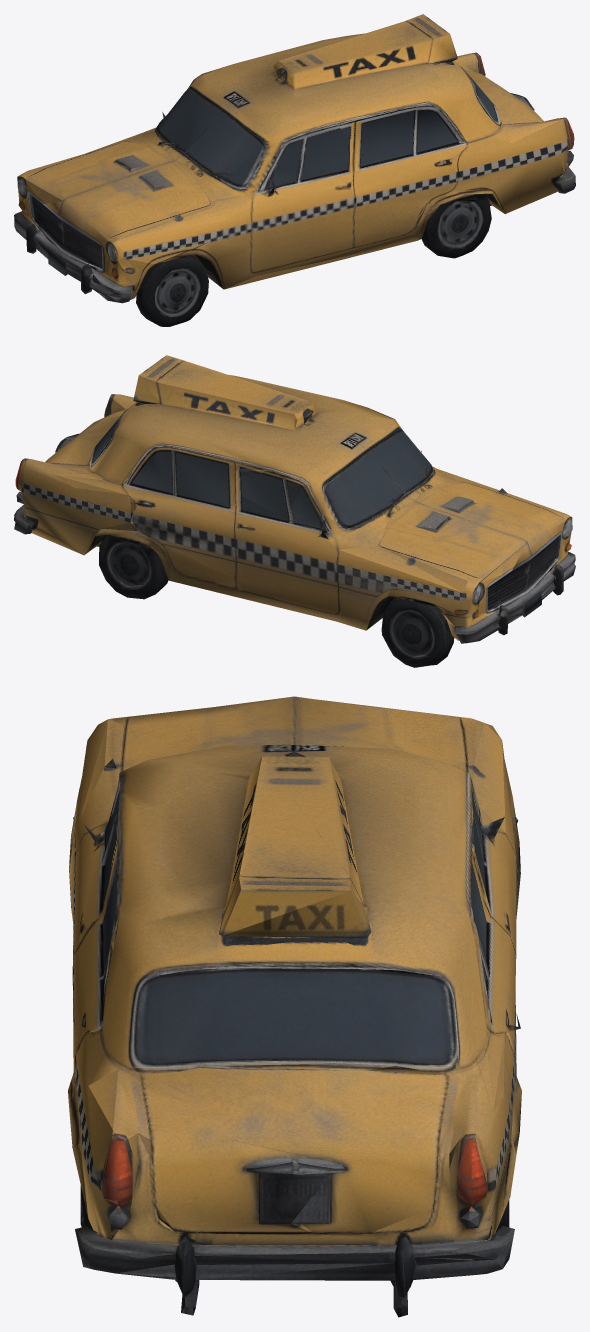
Rendered from car_taxi_light.glb.
The picture shows the model from 3 angles, top to bottom: view 1: azimuth 30°, elevation 25°; view 2: azimuth 150°, elevation 25°; view 3: azimuth 270°, elevation 25°; orthographic projection. The views are drawn at different scales.
Visible parts, largest first — view 1: output_unwrapped; view 2: output_unwrapped; view 3: output_unwrapped.
Part boxes in pixels (<box>): output_unwrapped: <box>14,14,575,326</box>; output_unwrapped: <box>14,355,575,667</box>; output_unwrapped: <box>68,696,521,1317</box>.
Bounding box in the file's own units: 4.02 × 1.5 × 1.63.
Materials: 1 (1 with a texture image).
